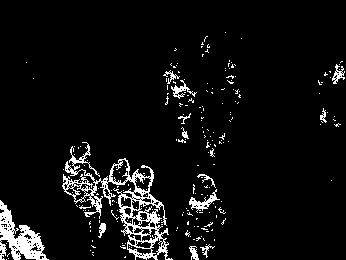person: (62, 140, 106, 253), (121, 162, 169, 260), (182, 172, 227, 259), (163, 62, 196, 143), (102, 156, 133, 238)
